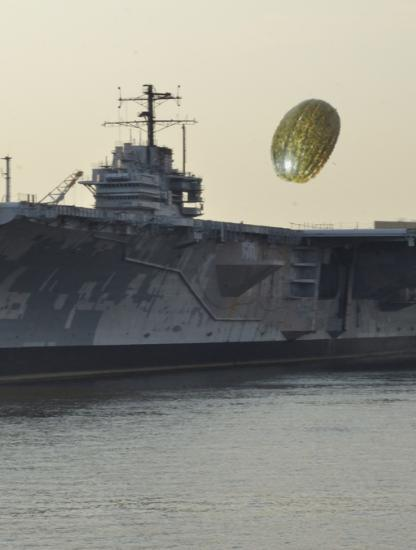Melon: (262, 98, 353, 189)
